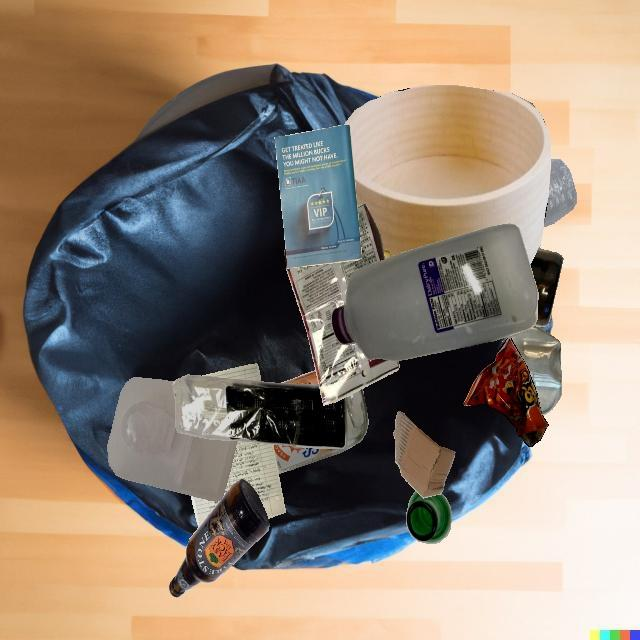biowaste: (383, 249, 390, 259)
cardboard: (393, 411, 456, 498)
combustible waste: (344, 85, 551, 264)
glass: (169, 480, 269, 598), (273, 388, 368, 474), (503, 325, 561, 415), (530, 248, 563, 327), (406, 491, 452, 544)
paper: (274, 125, 362, 268), (212, 380, 269, 509)
plastic: (331, 224, 538, 361), (284, 204, 400, 405), (107, 377, 237, 501), (172, 375, 346, 449), (543, 159, 577, 227)
trash: (463, 338, 548, 447)
